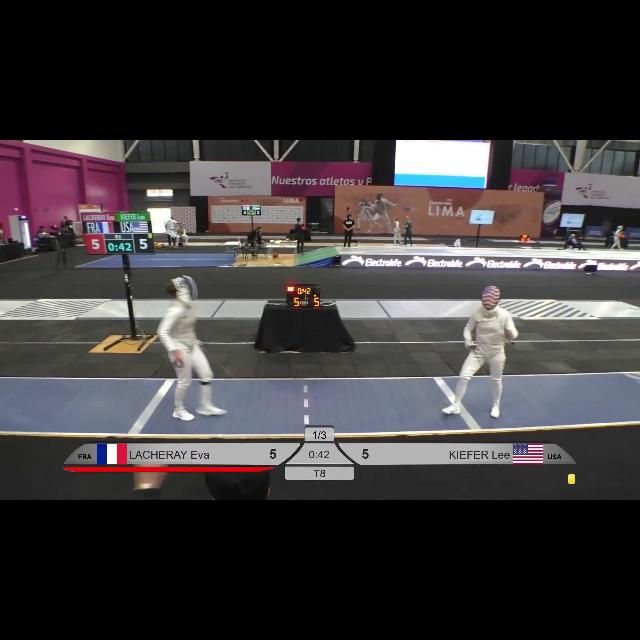blade: (467, 342, 505, 424), (197, 340, 239, 384)
